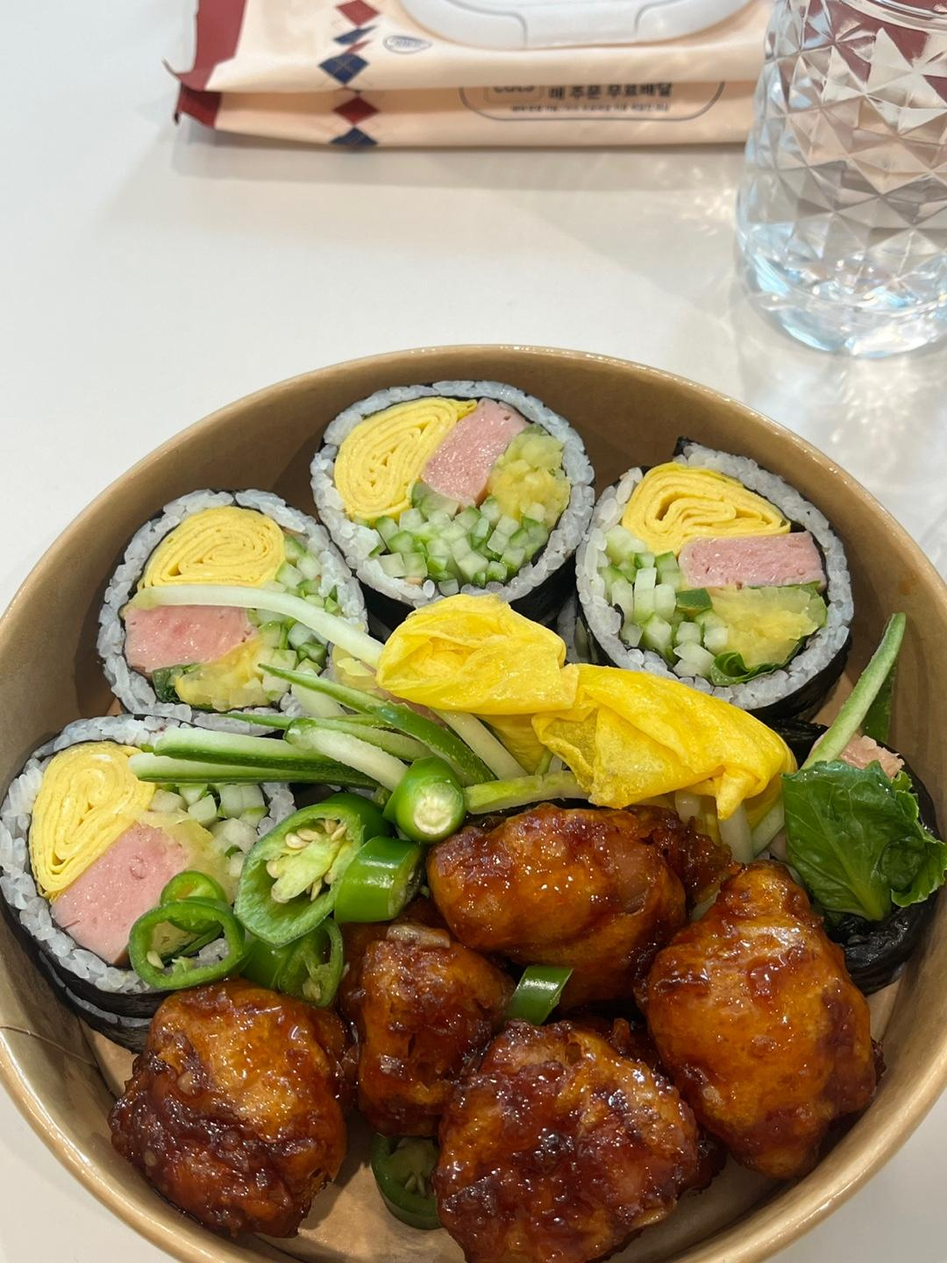Lunch Box: (0, 347, 946, 1262)
